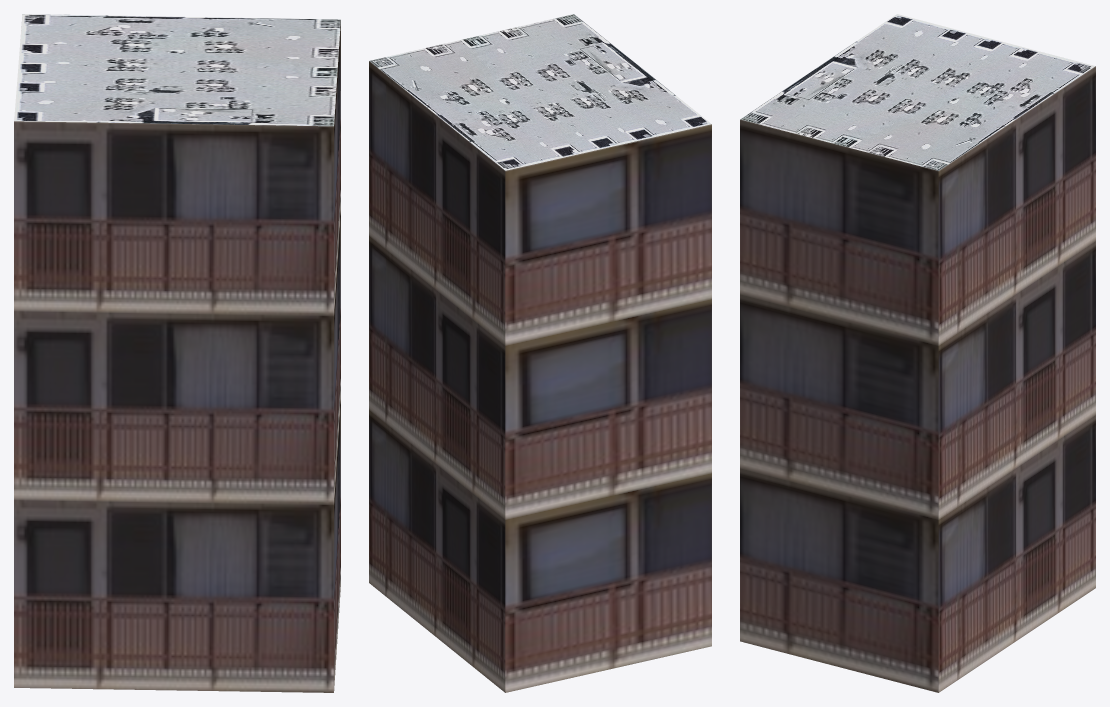
The model's file is ResTex__3635.fbx.
3 views of the same model, side by side, from view 1: azimuth 30°, elevation 25°; view 2: azimuth 150°, elevation 25°; view 3: azimuth 270°, elevation 25° (orthographic). The views are drawn at different scales.
Parts seen in each view (by area): view 1: CityEngineMaterial_6_m, CityEngineMaterial_4_m; view 2: CityEngineMaterial_6_m, CityEngineMaterial_4_m; view 3: CityEngineMaterial_6_m, CityEngineMaterial_4_m.
Boxes of the visible parts, x1,y1,x2,y2 form: CityEngineMaterial_6_m: [14, 20, 340, 692]; CityEngineMaterial_4_m: [14, 14, 340, 126]; CityEngineMaterial_6_m: [369, 61, 711, 692]; CityEngineMaterial_4_m: [369, 14, 711, 170]; CityEngineMaterial_6_m: [740, 66, 1095, 692]; CityEngineMaterial_4_m: [740, 14, 1095, 170].
Bounding box in the file's own units: 5.81 × 9 × 5.56.
Materials: 2 (2 with a texture image).
